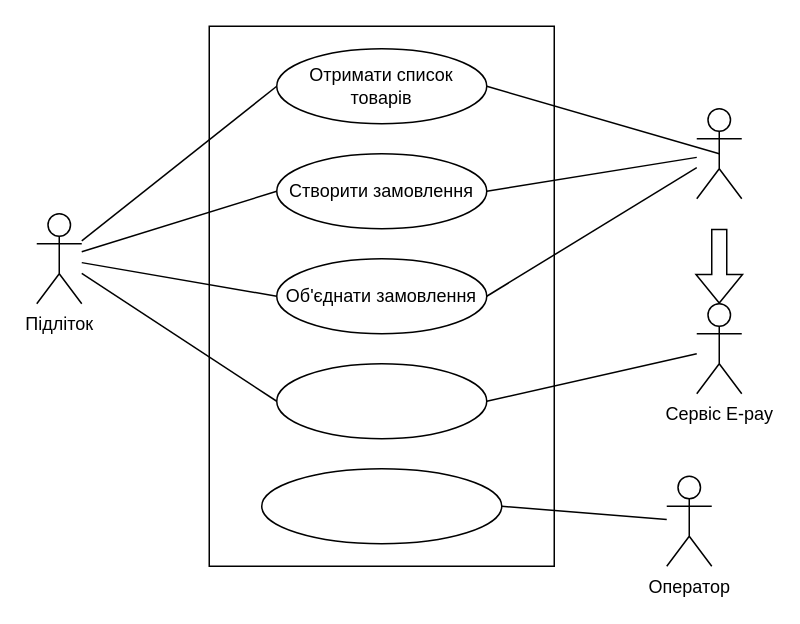
Image size: 800x624. Some labels were removed from this diagram. Here are the shapes that lost their labels. From the top down, the box of each, then its label:
(695, 107, 742, 199): Система
(275, 362, 487, 439): Оплатити замовлення
(260, 467, 502, 544): Сповістити про успішність замовлення
